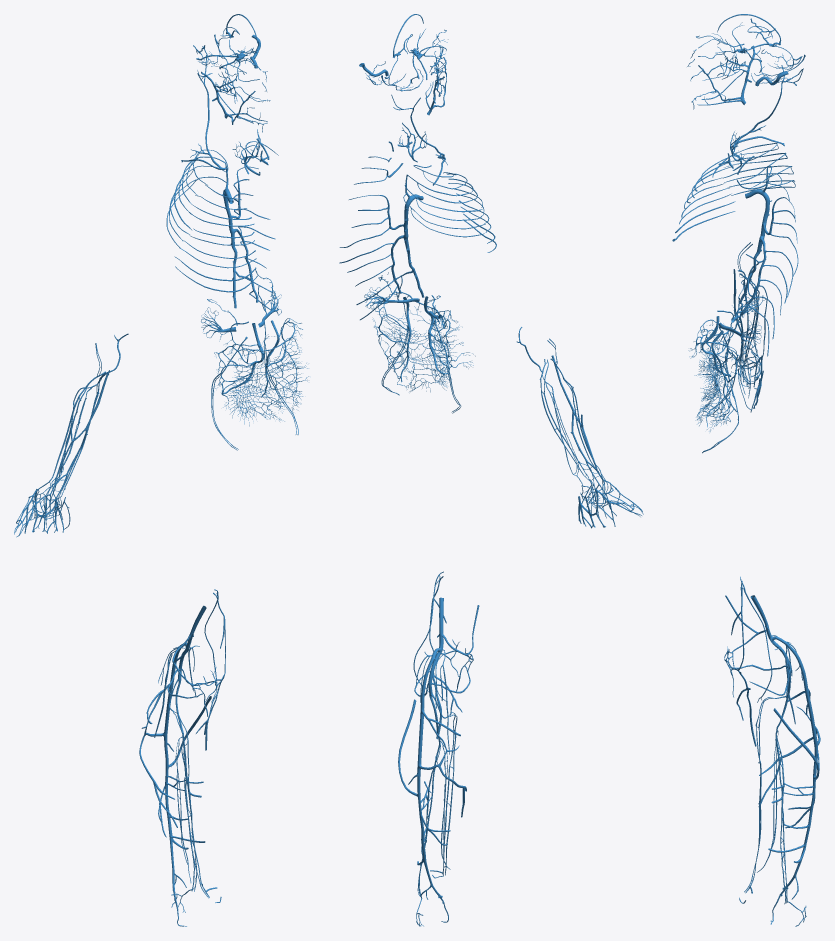
File: cardiovascular-04.glb
3 views of the same model, side by side, from view 1: azimuth 30°, elevation 25°; view 2: azimuth 150°, elevation 25°; view 3: azimuth 270°, elevation 25° (orthographic). The views are drawn at different scales.
Visible parts, largest first — view 1: ATLAS_Vei_M4024, ATLAS_Vei_M2226, ATLAS_Vei_M2225, ATLAS_Vei_M4021; view 2: ATLAS_Vei_M4024, ATLAS_Vei_M2226, ATLAS_Vei_M2225, ATLAS_Vei_M2014, ATLAS_Vei_M4020; view 3: ATLAS_Vei_M4024, ATLAS_Vei_M2014, ATLAS_Vei_M4022, ATLAS_Vei_M2226, ATLAS_Vei_M2016, ATLAS_Vei_M4014, ATLAS_Vei_M4021, ATLAS_Vei_M2225, ATLAS_Vei_M4020, ATLAS_Vei_M2223, ATLAS_Vei_M2227, ATLAS_Vei_M2216 (+1 smaller).
Part boxes in pixels (box(x1,y1,x2,y2)): ATLAS_Vei_M4024: box(139, 644, 188, 926); ATLAS_Vei_M2226: box(227, 372, 303, 426); ATLAS_Vei_M2225: box(227, 332, 303, 395); ATLAS_Vei_M4021: box(168, 705, 209, 898); ATLAS_Vei_M4024: box(408, 648, 466, 922); ATLAS_Vei_M2226: box(394, 332, 454, 392); ATLAS_Vei_M2225: box(380, 311, 462, 359); ATLAS_Vei_M2014: box(339, 156, 393, 304); ATLAS_Vei_M4020: box(427, 597, 445, 737); ATLAS_Vei_M4024: box(758, 636, 820, 924); ATLAS_Vei_M2014: box(740, 165, 798, 339); ATLAS_Vei_M4022: box(775, 728, 806, 926); ATLAS_Vei_M2226: box(695, 366, 727, 431); ATLAS_Vei_M2016: box(739, 189, 771, 303); ATLAS_Vei_M4014: box(724, 589, 756, 746); ATLAS_Vei_M4021: box(744, 696, 785, 893); ATLAS_Vei_M2225: box(694, 329, 724, 392); ATLAS_Vei_M4020: box(750, 595, 791, 727); ATLAS_Vei_M2223: box(688, 319, 736, 358); ATLAS_Vei_M2227: box(697, 383, 732, 423); ATLAS_Vei_M2216: box(719, 320, 761, 349).
Size of the model in its own units: 2.21 by 6.71 by 0.9661.
